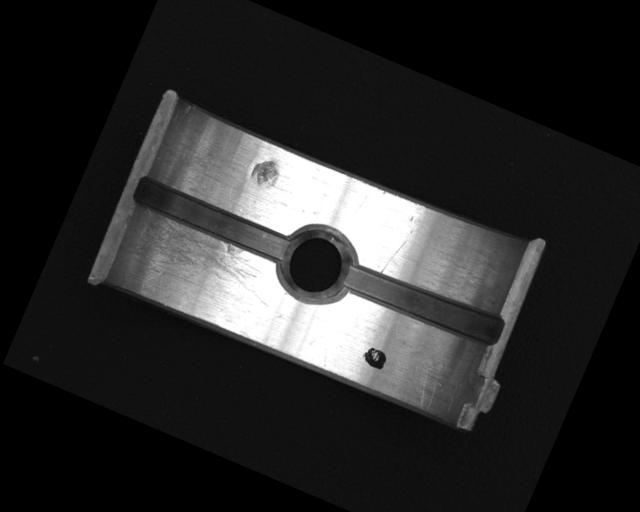blot: (359, 344, 390, 372)
bruise: (246, 154, 284, 193)
gap: (335, 251, 508, 353), (129, 172, 296, 268)
hole: (266, 213, 364, 313)
nick: (380, 224, 414, 278)
scratch: (115, 203, 287, 321)
